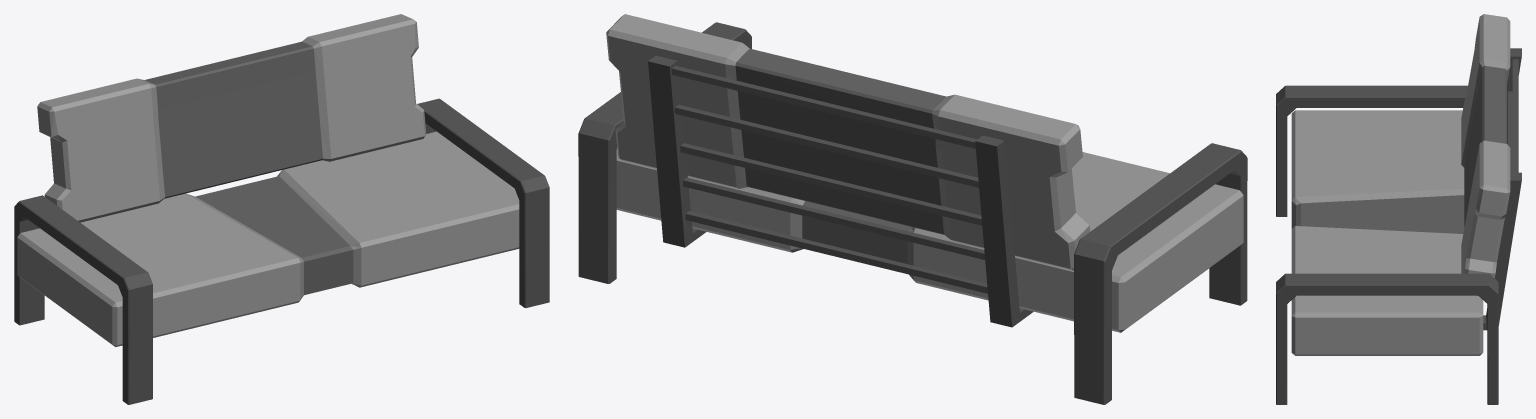
Rendered from couch_D.FBX.
3 views of the same model, side by side, from view 1: azimuth 30°, elevation 25°; view 2: azimuth 150°, elevation 25°; view 3: azimuth 270°, elevation 25° (orthographic). The views are drawn at different scales.
Parts seen in each view (by area): view 1: couch_D; view 2: couch_D; view 3: couch_D.
Part boxes in pixels (bbox=[...]): couch_D: bbox=[14, 14, 549, 404]; couch_D: bbox=[578, 14, 1247, 404]; couch_D: bbox=[1276, 14, 1521, 404].
Size of the model in its own units: 97.72 by 45.66 by 49.4.
